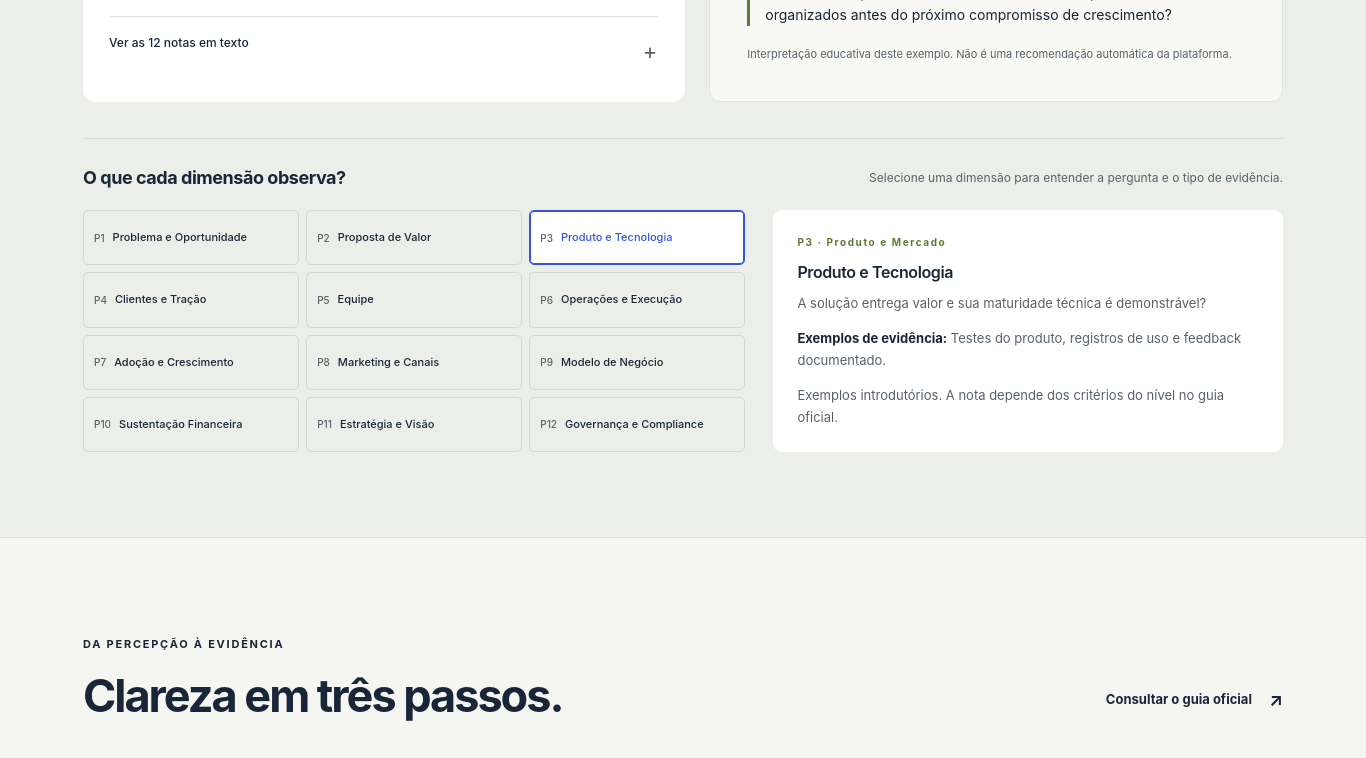
Test case: LandingPage › mostra a pergunta da dimensão selecionada com o nome canônico do bloco
(page scrolled)
Click the button "P12 Governança e Compliance" at (637, 424), box [529, 397, 745, 452]
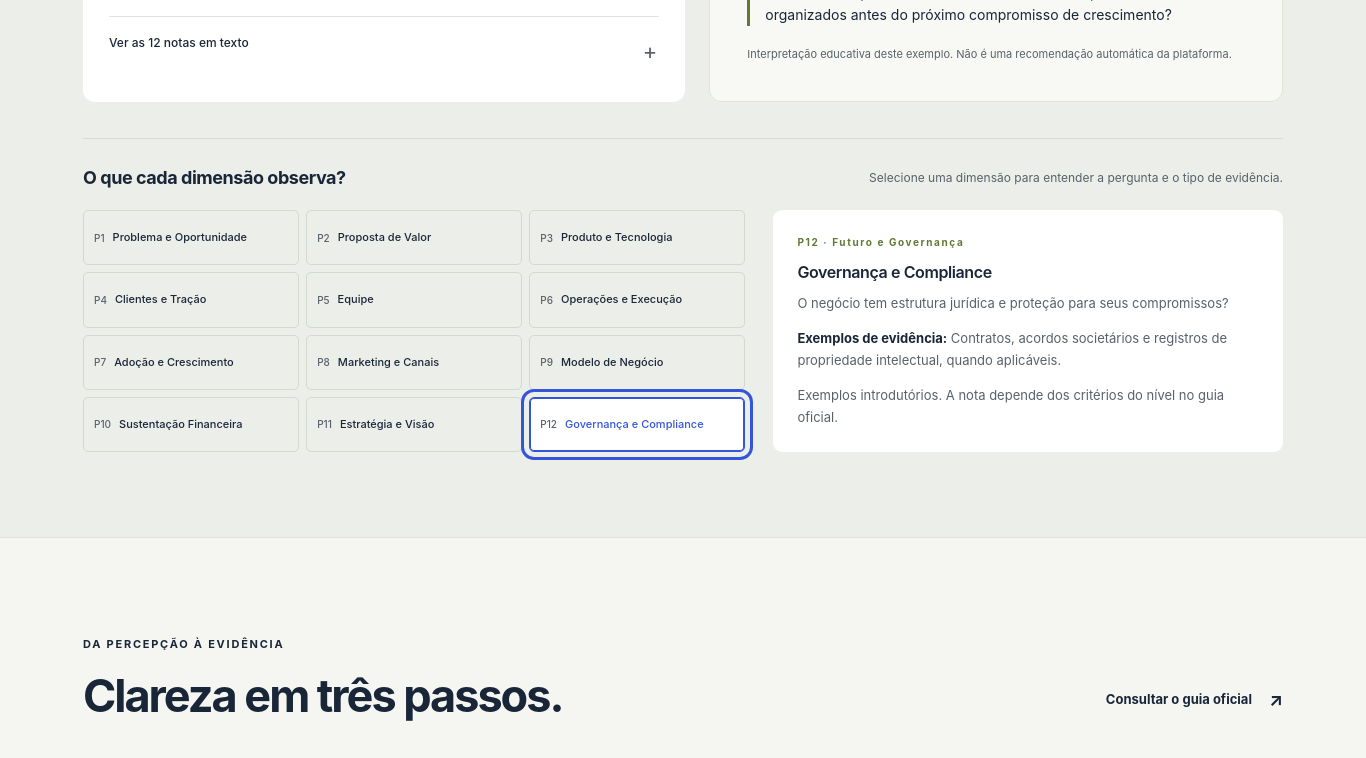
Expected: the heading "Governança e Compliance" is shown, [797, 262, 992, 282]
Expected: the text "estrutura jurídica e proteção" is shown, [797, 295, 1229, 311]
